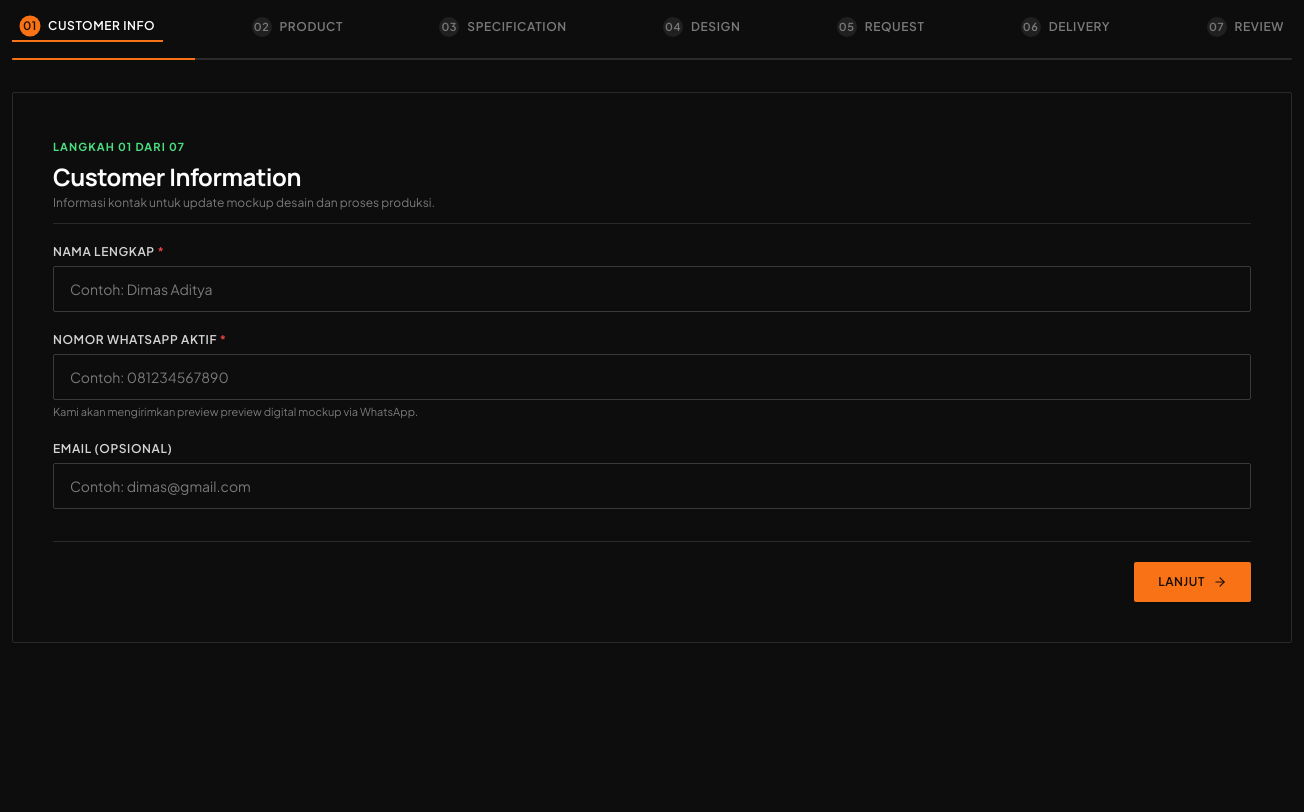
CustomOrderForm › validates email format and WhatsApp length
The image size is (1304, 812).
Type "Dimas" into the field with placeholder "Contoh: Dimas Aditya" at coordinates (652, 289), box [53,266,1251,312]
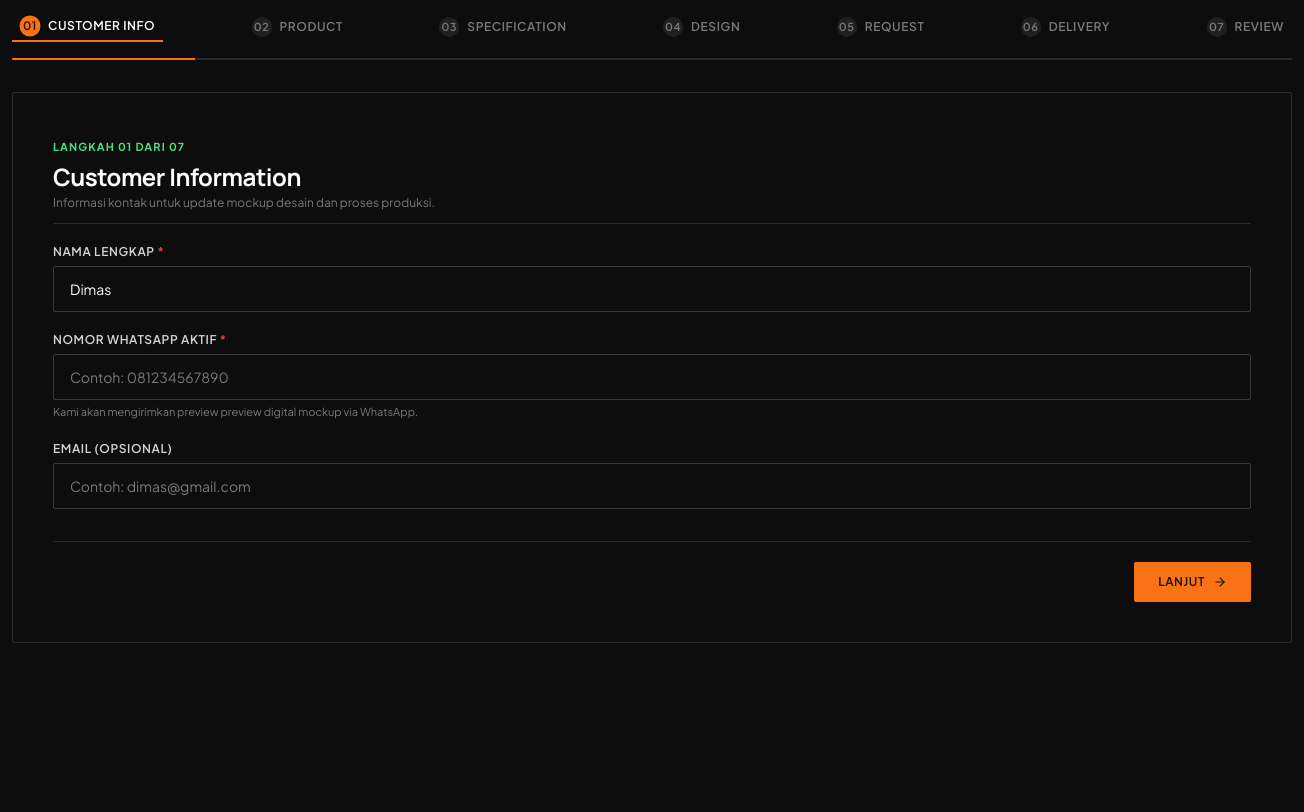
Type "0812" into the field with placeholder "Contoh: 081234567890" at coordinates (652, 377), box [53,354,1251,400]
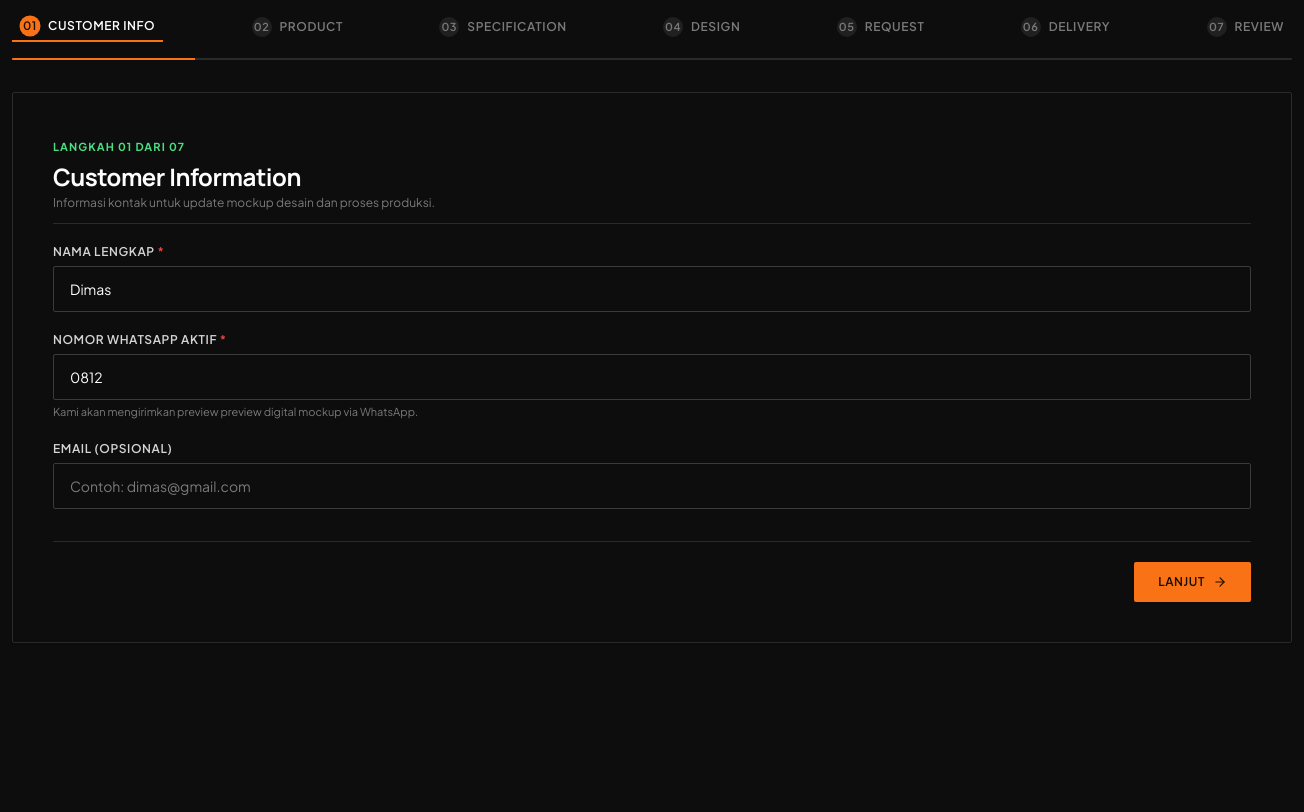
Type "bukan-email" into the field with placeholder "Contoh: dimas@gmail.com" at coordinates (652, 486), box [53,462,1251,508]
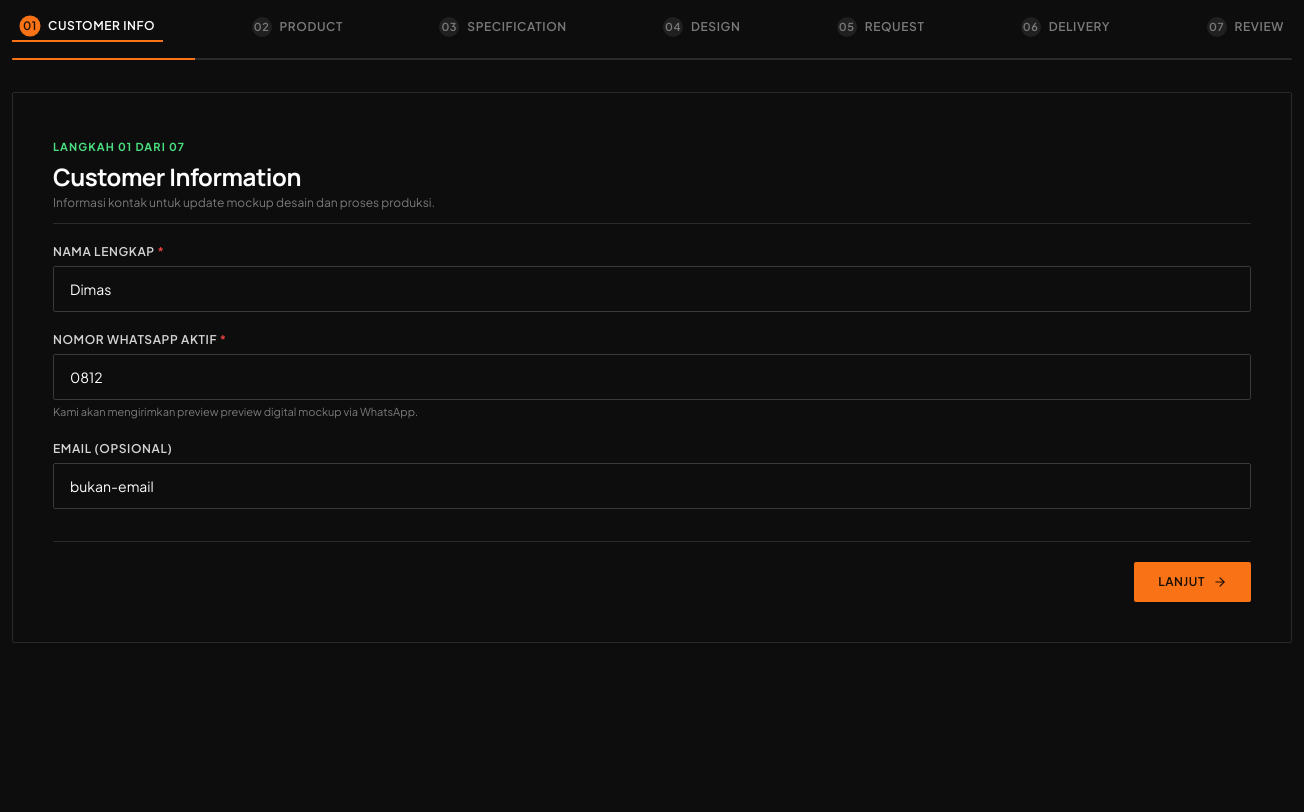
Click the button "Lanjut" at coordinates (1193, 582), box [1134,562,1251,602]
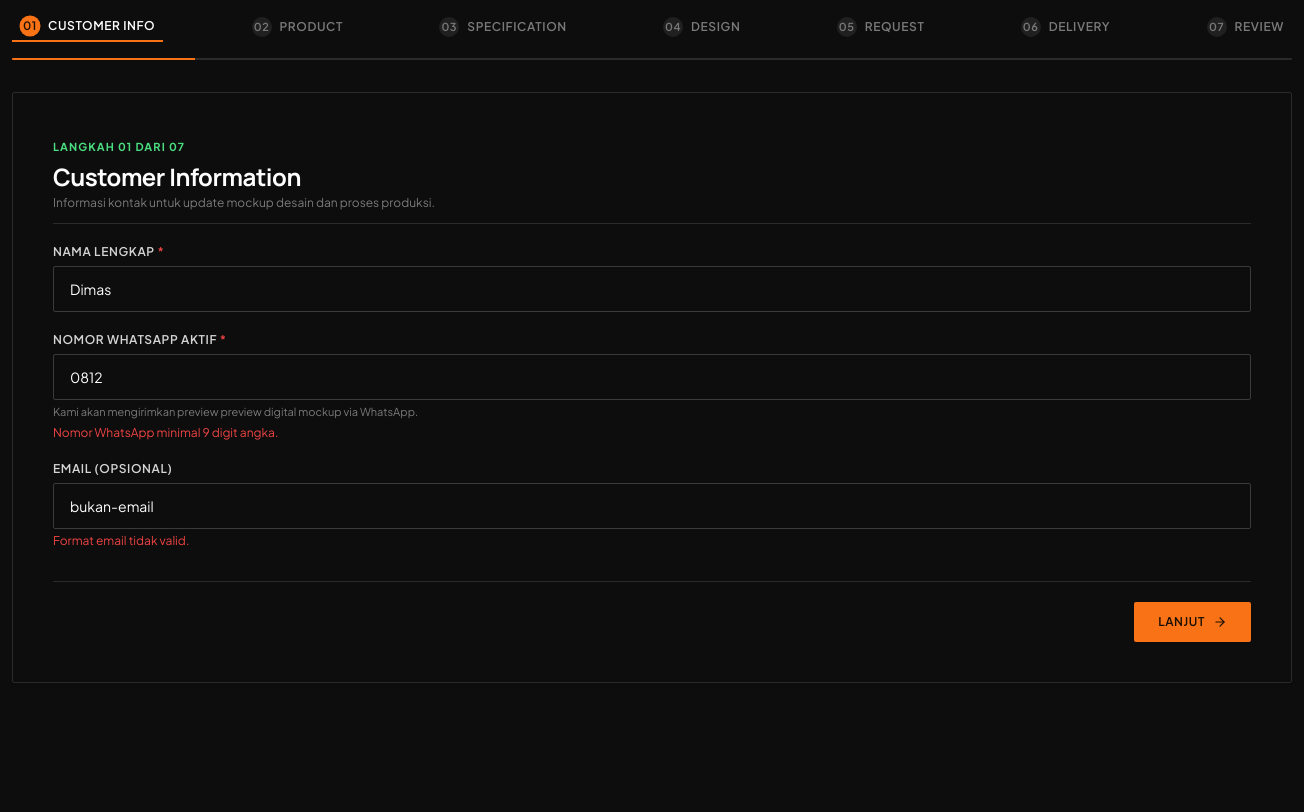
Now the text "Nomor WhatsApp minimal 9 digit angka." is shown, box [53,424,278,440]
Now the text "Format email tidak valid." is shown, box [53,532,189,548]
